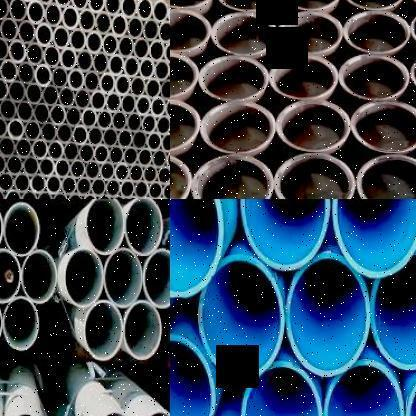pipe: (284, 250, 370, 378), (197, 255, 283, 379), (332, 199, 416, 278), (240, 199, 330, 271), (170, 199, 224, 299), (372, 249, 416, 369), (323, 359, 404, 416), (242, 361, 324, 416), (200, 100, 276, 155), (275, 99, 351, 153), (273, 151, 354, 199), (189, 154, 274, 199), (170, 333, 215, 416), (350, 98, 416, 154), (337, 53, 411, 101), (197, 55, 270, 102), (268, 54, 338, 100), (343, 10, 411, 54), (277, 10, 344, 54), (211, 12, 278, 56), (355, 153, 416, 199), (65, 247, 104, 309), (84, 300, 122, 362), (84, 199, 126, 255), (123, 300, 162, 360), (104, 247, 142, 308), (124, 199, 162, 255), (3, 203, 40, 258), (2, 296, 38, 352), (22, 249, 58, 304), (170, 7, 210, 52), (170, 98, 200, 154), (143, 248, 170, 308), (170, 50, 199, 100), (0, 248, 21, 303), (213, 0, 279, 12), (341, 0, 406, 10), (278, 0, 342, 10), (62, 4, 80, 31), (44, 2, 62, 28), (94, 10, 112, 36), (0, 16, 18, 42), (52, 24, 70, 50), (68, 26, 86, 52), (16, 60, 34, 86), (34, 62, 52, 88), (27, 0, 45, 25), (142, 17, 160, 42), (76, 48, 94, 73), (110, 12, 127, 38), (127, 14, 144, 40), (9, 38, 26, 64), (8, 79, 26, 103), (80, 106, 98, 130), (18, 20, 36, 44), (0, 58, 18, 82), (49, 102, 66, 127), (26, 41, 43, 66), (44, 43, 61, 68), (108, 52, 125, 77), (67, 67, 84, 92), (8, 0, 27, 22), (36, 22, 52, 48), (118, 33, 134, 59), (64, 105, 82, 128), (24, 119, 42, 142), (83, 69, 100, 93), (99, 71, 116, 95), (42, 83, 59, 107), (58, 86, 75, 110), (16, 100, 33, 124), (33, 101, 50, 125), (40, 120, 57, 144), (15, 136, 32, 160), (78, 8, 95, 32), (133, 36, 150, 60), (92, 50, 109, 74), (51, 65, 68, 89), (170, 0, 215, 9), (6, 154, 24, 176), (38, 156, 56, 178), (56, 122, 73, 145), (31, 138, 48, 161), (130, 74, 146, 98), (144, 76, 160, 100), (26, 81, 42, 105), (74, 87, 90, 111), (86, 30, 102, 54), (102, 32, 118, 56), (148, 38, 164, 62), (60, 46, 76, 70), (124, 54, 140, 78), (139, 56, 155, 80), (154, 58, 170, 82), (62, 141, 80, 162), (22, 156, 40, 177), (90, 90, 107, 112), (0, 98, 17, 120), (7, 118, 24, 140), (72, 124, 89, 146), (13, 172, 30, 194), (120, 92, 136, 115), (96, 107, 112, 130), (140, 112, 156, 135), (117, 127, 133, 150), (115, 72, 130, 96), (88, 124, 103, 148), (136, 0, 154, 20), (54, 157, 71, 178), (45, 174, 62, 195), (135, 94, 151, 116), (150, 96, 166, 118), (111, 110, 127, 132), (126, 111, 142, 133), (102, 126, 118, 148), (108, 144, 124, 166), (137, 146, 153, 168), (128, 162, 144, 184), (61, 174, 77, 196), (48, 139, 63, 162), (78, 141, 93, 164), (152, 0, 167, 23), (132, 130, 148, 151), (146, 131, 162, 152), (93, 144, 109, 165), (30, 173, 46, 194), (76, 176, 92, 197), (90, 177, 106, 198), (106, 92, 121, 114), (0, 136, 15, 158), (123, 146, 139, 166), (100, 161, 116, 181), (155, 114, 170, 135), (115, 161, 130, 182), (70, 158, 84, 180), (152, 148, 167, 168), (143, 164, 158, 184), (120, 179, 135, 199), (134, 179, 149, 199), (0, 169, 13, 192), (120, 0, 136, 18), (158, 19, 170, 43), (86, 160, 100, 180), (156, 164, 170, 184), (106, 178, 120, 198), (104, 0, 121, 16), (148, 180, 162, 199), (160, 77, 170, 101), (0, 36, 9, 62), (87, 0, 104, 13), (160, 132, 170, 153), (4, 188, 22, 199), (0, 77, 8, 101), (0, 116, 8, 139), (0, 0, 9, 20), (20, 189, 37, 199), (163, 40, 170, 64), (70, 0, 88, 9), (53, 0, 72, 8), (162, 181, 170, 199), (36, 190, 52, 199), (0, 152, 6, 175), (53, 190, 68, 199), (67, 191, 83, 199), (164, 98, 170, 119), (96, 192, 112, 199), (82, 192, 97, 199), (165, 150, 170, 170), (110, 194, 126, 199), (125, 194, 140, 199), (0, 186, 4, 199)
